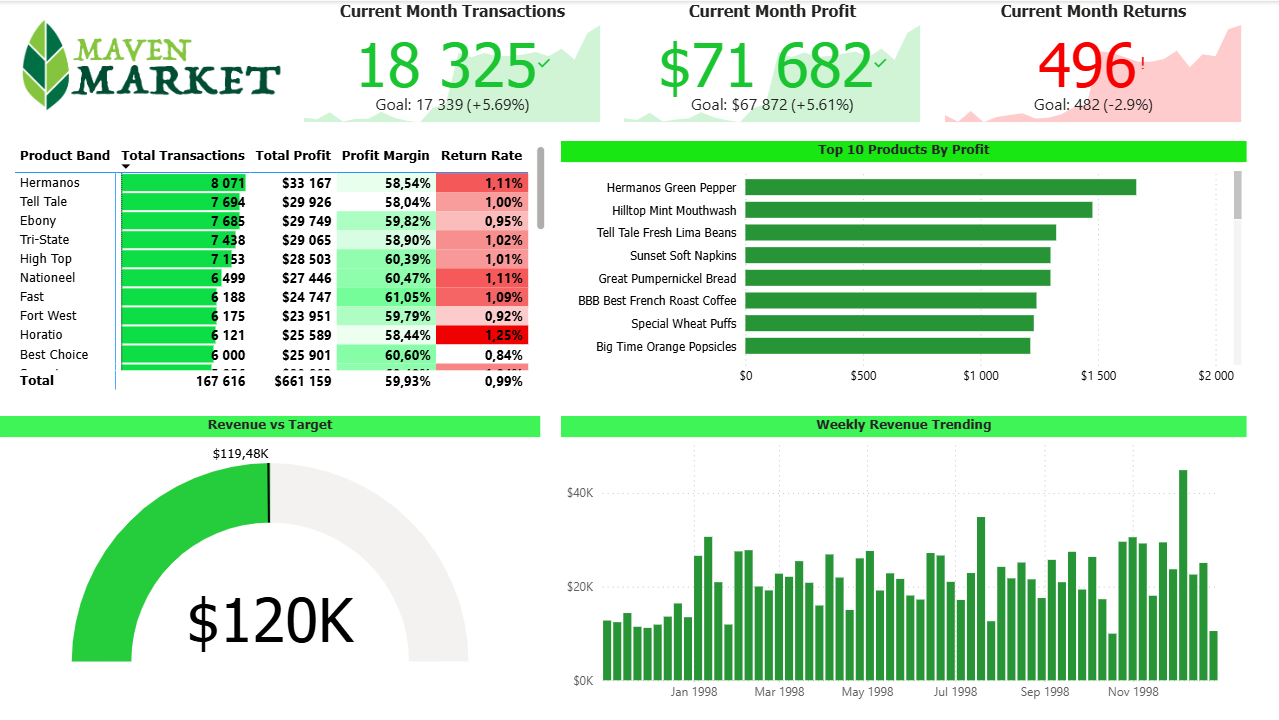

The dashboard page shown, as its layout file describes it:
{"tool":"powerbi","page":{"name":"Top Products/Brands","canvas":[1280,720],"ordinal":0},"visuals":[{"type":"image","box":[9.9,0,280.3,126.3],"z":0},{"type":"pivotTable","fields":{"Rows":["Products.Product Band"],"Values":["Cal Measures.Total Transactions","Cal Measures.Total Profit","Cal Measures.Profit Margin","Cal Measures.Return Rate"]},"box":[9.9,139.7,539.1,252.5],"z":1000},{"type":"kpi","title":"Current Month Transactions","fields":{"Indicator":["Cal Measures.Total Transactions"],"TrendLine":["Calendar.Start of Month"],"Goal":["Cal Measures.Last Month Transactions"]},"box":[298.2,0,306.3,126.3],"z":2000},{"type":"kpi","title":"Current Month Profit","fields":{"Indicator":["Cal Measures.Total Profit"],"TrendLine":["Calendar.Start of Month"],"Goal":["Cal Measures.Last Month Profit"]},"box":[617.9,0,306.3,126.3],"z":3000},{"type":"kpi","title":"Current Month Returns","fields":{"Indicator":["Cal Measures.Total Returns"],"TrendLine":["Calendar.Start of Month"],"Goal":["Cal Measures.Last Month Returns"]},"box":[937.6,0,306.3,126.3],"z":4000},{"type":"barChart","title":"Top 10 Products By Profit","fields":{"Category":["Products.Product Name","Stores.Country/Region"],"Y":["Cal Measures.Total Profit"]},"box":[559.7,139.7,684.2,252.5],"z":5000},{"type":"gauge","title":"Revenue vs Target","fields":{"Y":["Cal Measures.Total Revenue"],"TargetValue":["Cal Measures.Revenue Target"]},"box":[0,413.7,539.1,249.9],"z":6000},{"type":"clusteredColumnChart","title":"Weekly Revenue Trending","fields":{"Category":["Calendar.Start of Week"],"Y":["Cal Measures.Total Revenue"]},"box":[559.7,413.7,684.2,293.7],"z":7000}]}

Visuals, with their boxes in screenshot pixels (x1, y1, x2, y2), scaled from the page's 1280x720 canvas onto the 1279x720 screenshot:
image: (x1=10, y1=0, x2=290, y2=126)
pivotTable - Products.Product Band x Cal Measures.Total Transactions: (x1=10, y1=140, x2=549, y2=392)
"Current Month Transactions" kpi: (x1=298, y1=0, x2=604, y2=126)
"Current Month Profit" kpi: (x1=617, y1=0, x2=923, y2=126)
"Current Month Returns" kpi: (x1=937, y1=0, x2=1243, y2=126)
"Top 10 Products By Profit" barChart: (x1=559, y1=140, x2=1243, y2=392)
"Revenue vs Target" gauge: (x1=0, y1=414, x2=539, y2=664)
"Weekly Revenue Trending" clusteredColumnChart: (x1=559, y1=414, x2=1243, y2=707)
